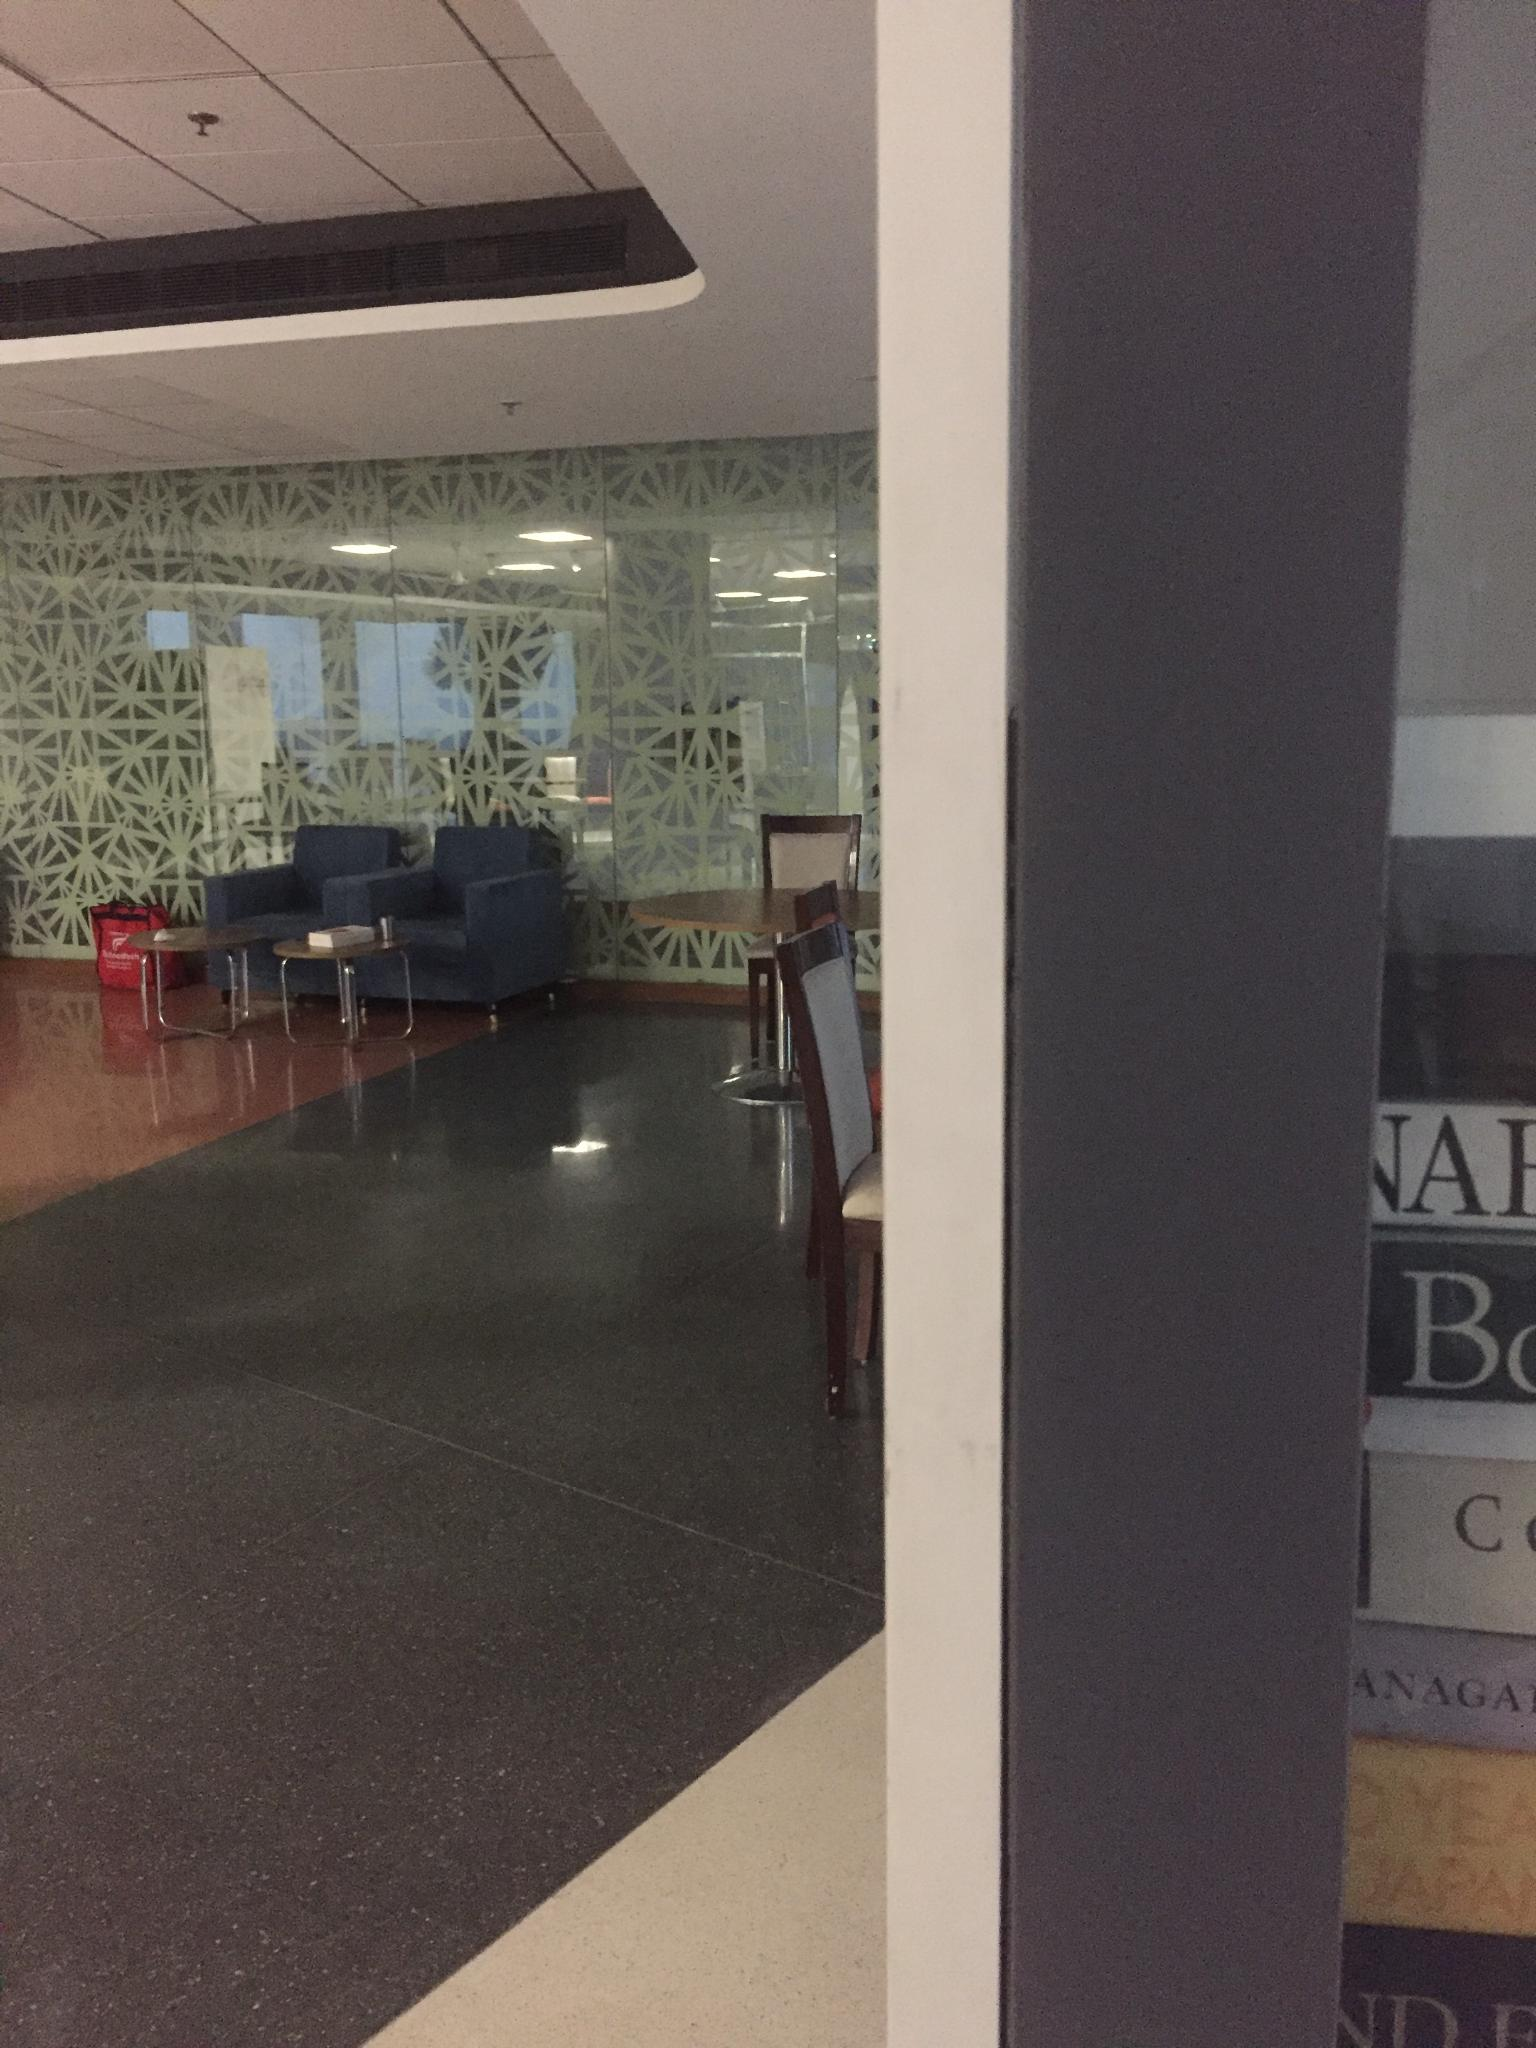chair: (774, 913, 884, 1416), (747, 798, 883, 1063)
